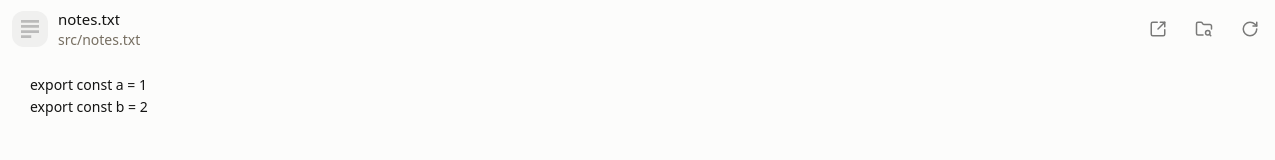
Test: round 53 · 预览标签里选中文字的自绘右键菜单 › 「全选」框的是正文（头部那两行文件名 / 路径不算）
This screenshot has width=1275, height=160.
Right-click the element with test id "file-preview-text" at coordinates (89, 96), box [30,75,148,116]
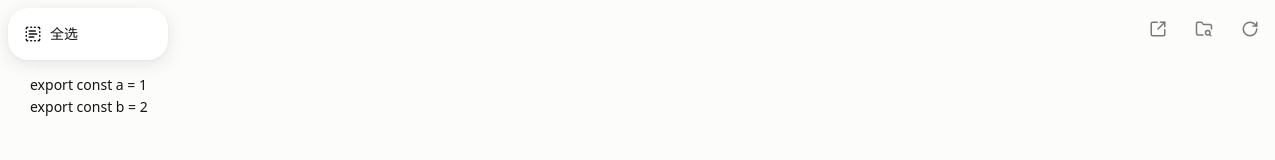
Click the menu item "全选" at coordinates (88, 34), box [16,16,160,52]
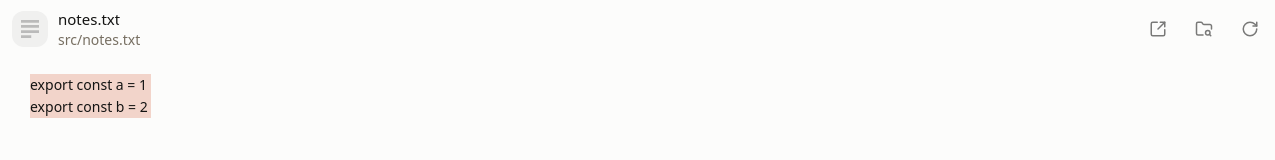
// 选区就绪 → 再右键出现摘选那两项
Right-click the element with test id "file-preview-text" at coordinates (89, 96), box [30,75,148,116]
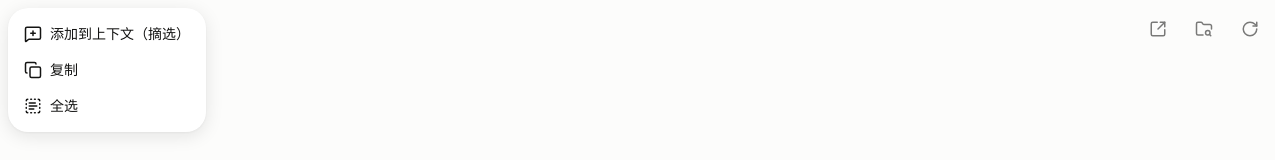
Expected: the text "添加到上下文（摘选）" is shown, [50,24,190,44]
